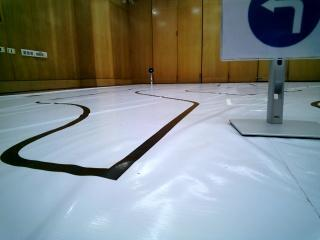left: (223, 1, 320, 63)
